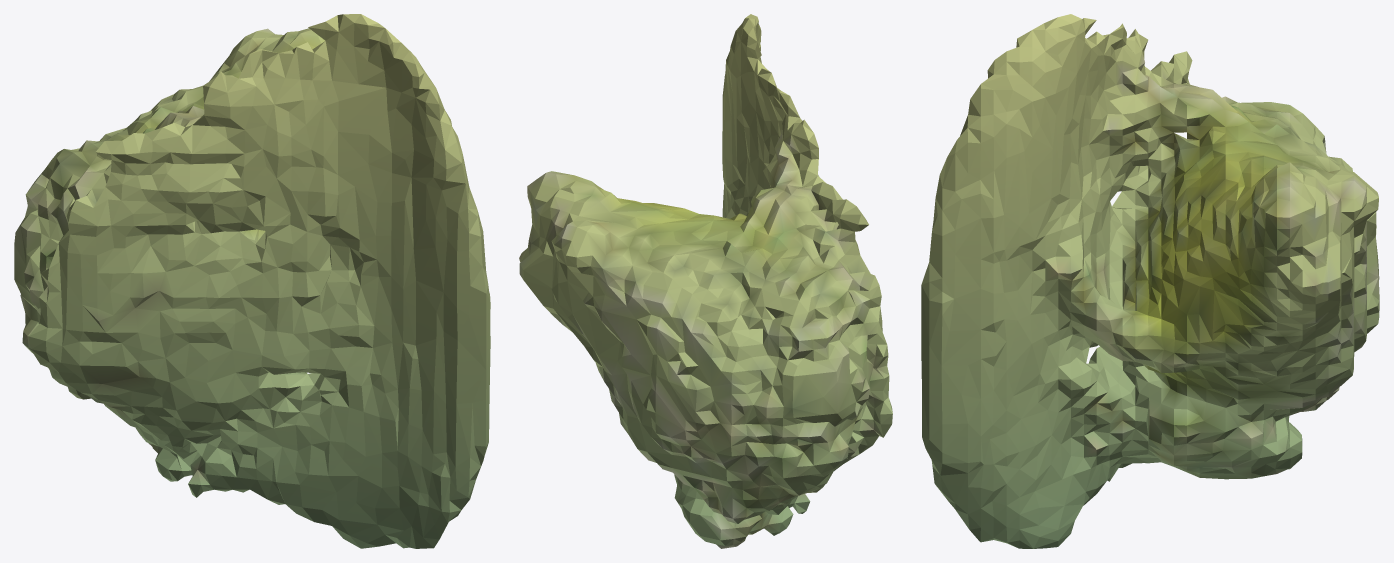
File: lantern_frog.glb
The picture shows the model from 3 angles, left to right: view 1: azimuth 30°, elevation 25°; view 2: azimuth 150°, elevation 25°; view 3: azimuth 270°, elevation 25°; orthographic projection. The views are drawn at different scales.
Parts seen in each view (by area): view 1: world; view 2: world; view 3: world.
Part boxes in pixels (x1,y1,x2,y2): world: (14, 14, 490, 548); world: (519, 14, 892, 548); world: (921, 14, 1379, 548).
Size of the model in its own units: 0.2613 by 0.35 by 0.2743.
